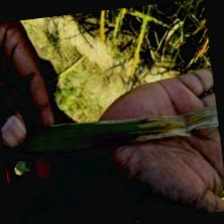Leaf_Blast: (56, 104, 216, 141)
